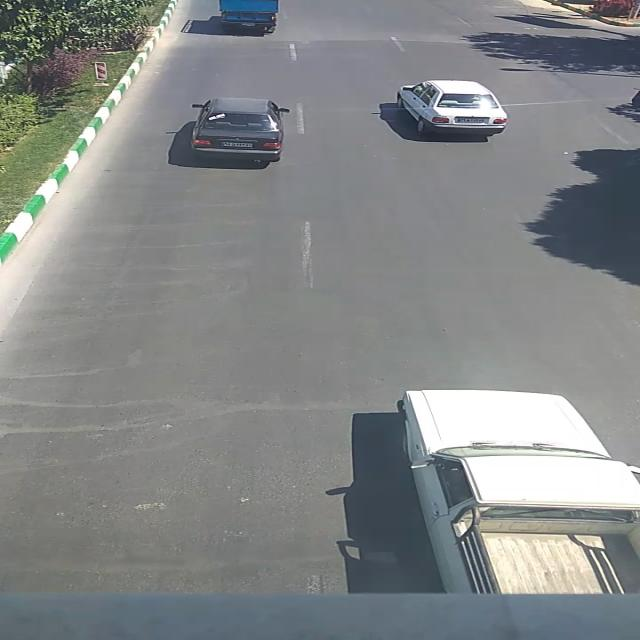car: (393, 390, 640, 593), (190, 97, 292, 163), (394, 80, 508, 136), (220, 1, 282, 31)
